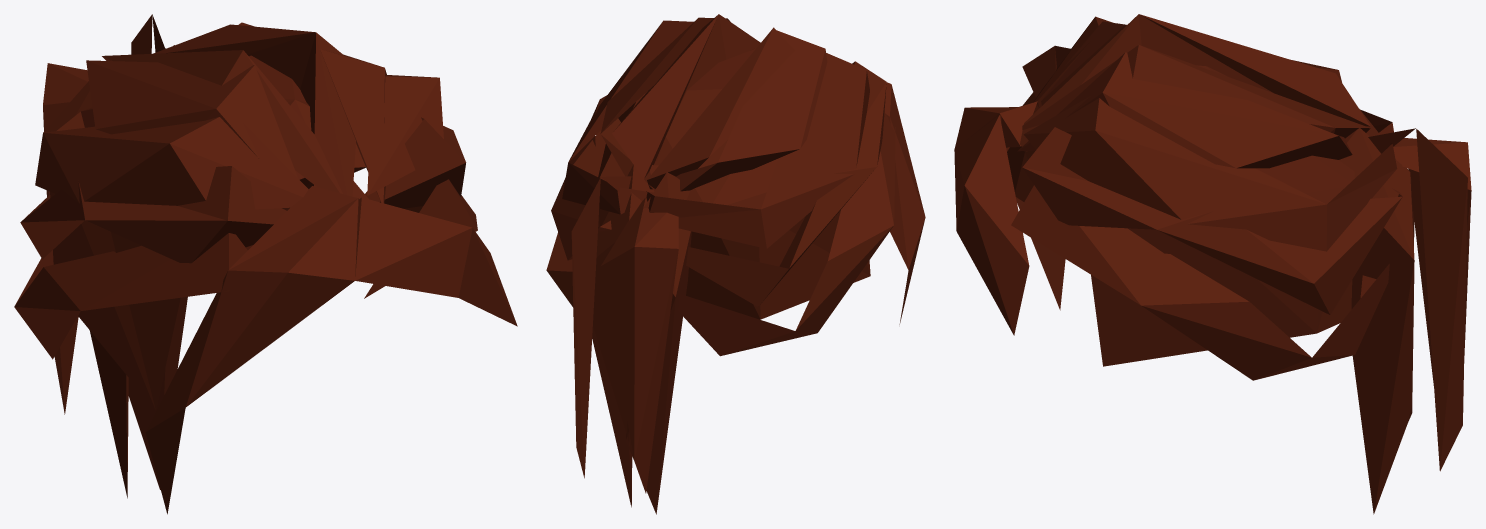
The model's file is hair-updo.low.130a86c3.glb.
The picture shows the model from 3 angles, left to right: view 1: azimuth 30°, elevation 25°; view 2: azimuth 150°, elevation 25°; view 3: azimuth 270°, elevation 25°; orthographic projection. The views are drawn at different scales.
Parts seen in each view (by area): view 1: hair-updo; view 2: hair-updo; view 3: hair-updo.
Part boxes in pixels (x1=…): hair-updo: x1=14, y1=14, x2=517, y2=514; hair-updo: x1=546, y1=14, x2=925, y2=514; hair-updo: x1=954, y1=14, x2=1471, y2=514.
Size of the model in its own units: 0.2383 by 0.3188 by 0.3121.
